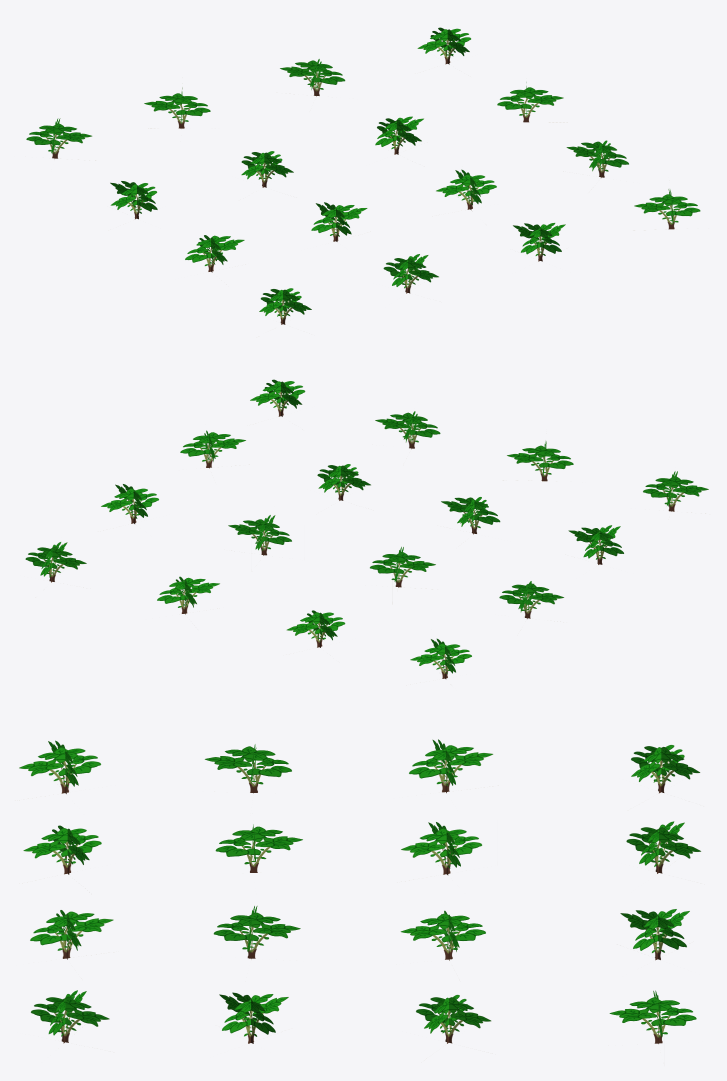
The model's file is potato-stage1.glb.
3 views of the same model, one above another, from view 1: azimuth 30°, elevation 25°; view 2: azimuth 150°, elevation 25°; view 3: azimuth 270°, elevation 25° (orthographic). The views are drawn at different scales.
Parts seen in each view (by area): view 1: Potatoe_F1.001; view 2: Potatoe_F1.001; view 3: Potatoe_F1.001.
Part boxes in pixels (x1,y1,x2,y2): Potatoe_F1.001: (26, 27, 700, 324); Potatoe_F1.001: (25, 379, 708, 678); Potatoe_F1.001: (19, 739, 700, 1043).
Bounding box in the file's own units: 1.93 × 0.1409 × 1.93.
1 material, 1 textured.
